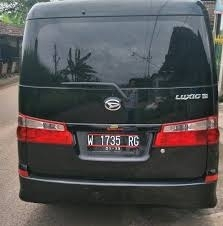plate: (87, 132, 139, 153)
